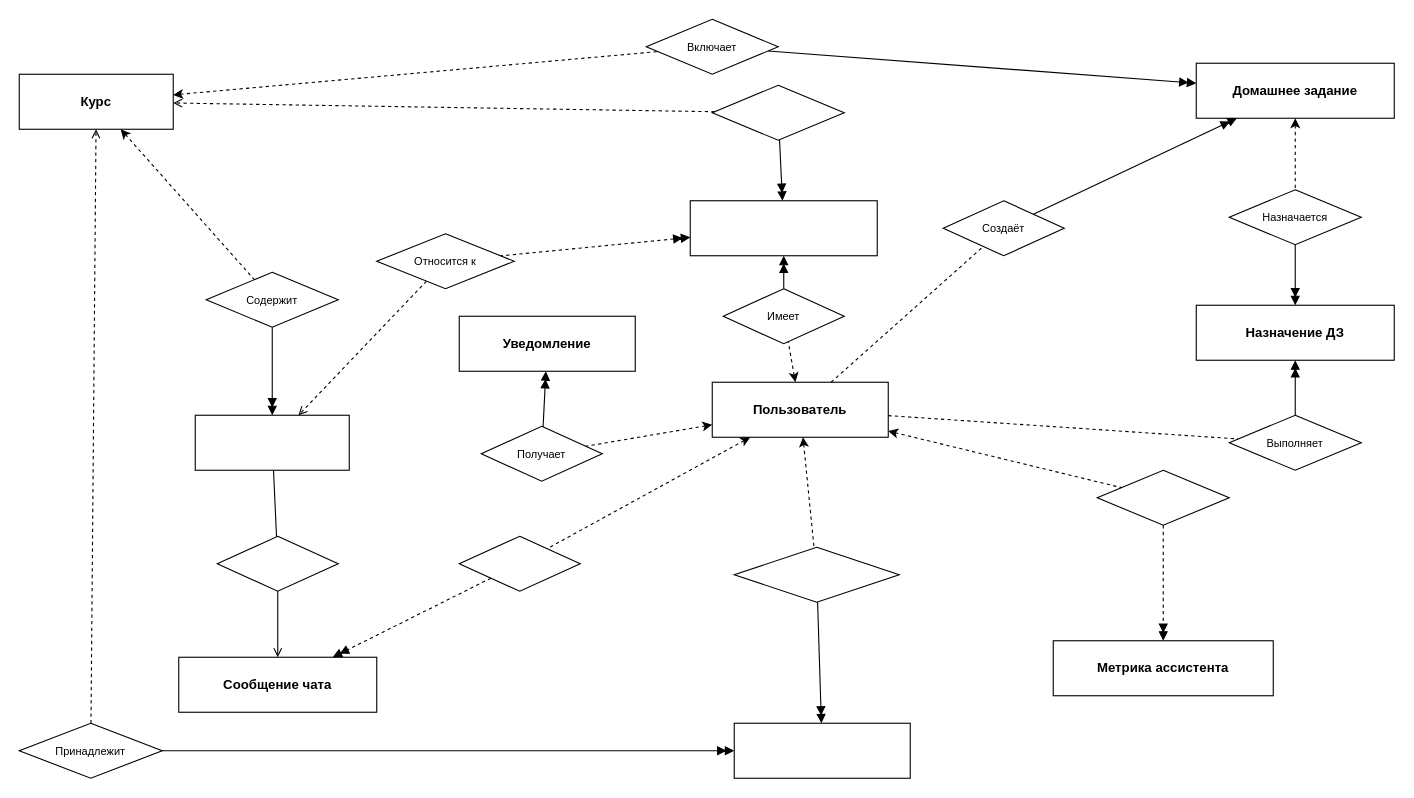
The diagram is 1414 pixels wide and 798 high, and some of its shapes have lost their labels. The centre of each missing label's shape, as x and y in pixels:
"В уроке" belongs at [277,563].
"Генерирует" belongs at [1162,497].
"Пишет" belongs at [519,563].
"По курсу" belongs at [777,112].
"Слабая тема" belongs at [783,228].
"Создаёт шаблон" belongs at [816,574].
"Урок" belongs at [271,442].
"Шаблон ДЗ" belongs at [821,750].
